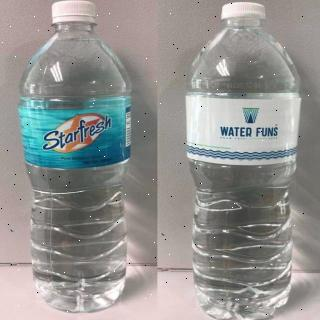Plastic-bottle: (182, 1, 303, 319), (18, 1, 141, 313)
